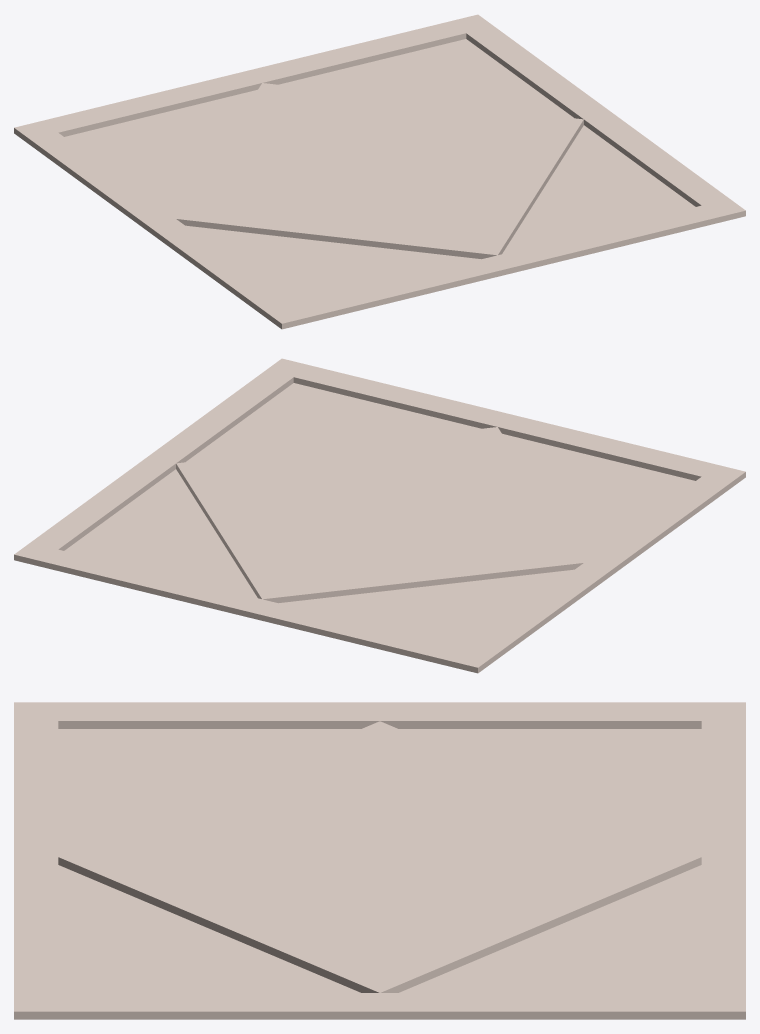
Rendered from Tile1.fbx.
3 views of the same model, one above another, from view 1: azimuth 30°, elevation 25°; view 2: azimuth 150°, elevation 25°; view 3: azimuth 270°, elevation 25° (orthographic). The views are drawn at different scales.
Visible parts, largest first — view 1: Decorative_Tile; view 2: Decorative_Tile; view 3: Decorative_Tile.
Boxes of the visible parts, bbox=[...] form: Decorative_Tile: bbox=[14, 14, 745, 329]; Decorative_Tile: bbox=[14, 358, 745, 673]; Decorative_Tile: bbox=[14, 702, 745, 1019].
Bounding box in the file's own units: 1 × 0.0117 × 1.
